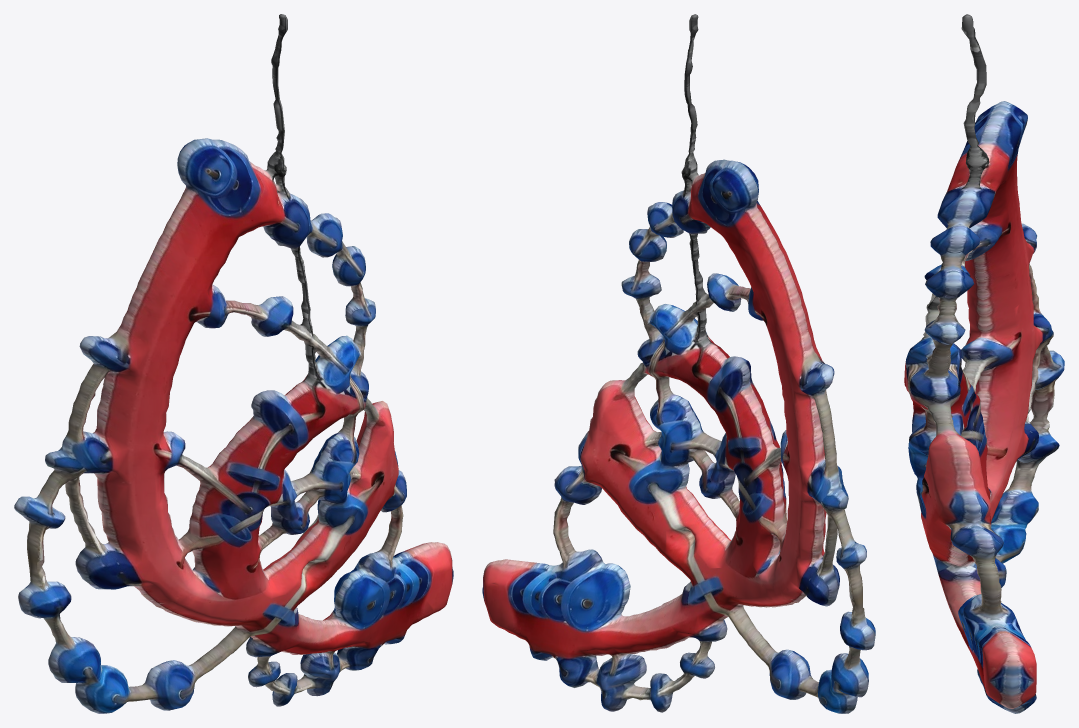
Rendered from hy3d-mov-026.glb.
3 renders of one model, left to right at view 1: azimuth 30°, elevation 25°; view 2: azimuth 150°, elevation 25°; view 3: azimuth 270°, elevation 25°, orthographic. The views are drawn at different scales.
Parts seen in each view (by area): view 1: world; view 2: world; view 3: world.
Part boxes in pixels (x1,y1,x2,y2): world: (14, 14, 453, 713); world: (482, 14, 875, 713); world: (904, 14, 1064, 713).
Size of the model in its own units: 1.46 by 2.39 by 0.519.
Materials: 1 (1 with a texture image).
